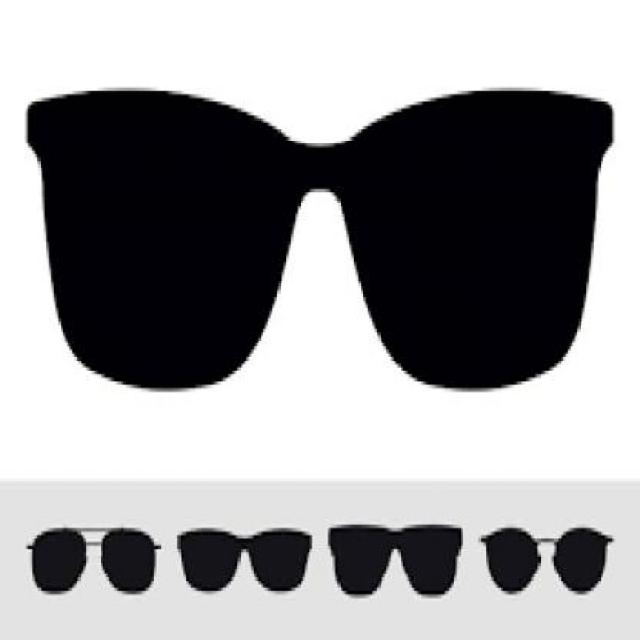gozluk: (16, 62, 619, 480)
